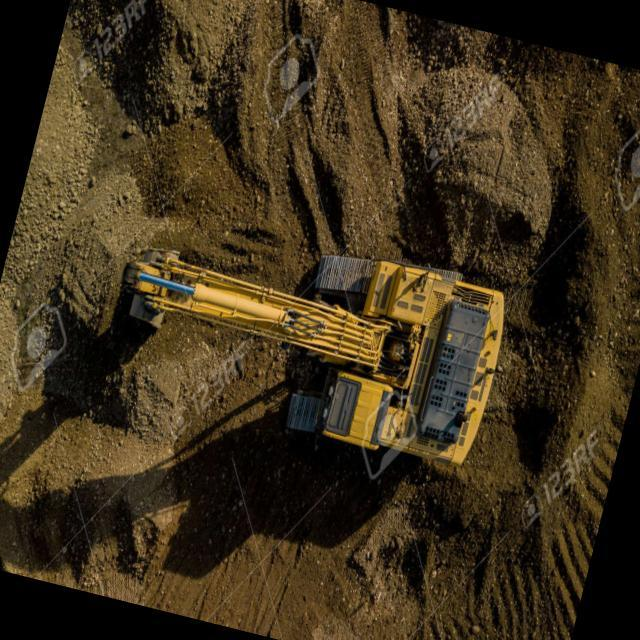excavator: (120, 251, 505, 468)
